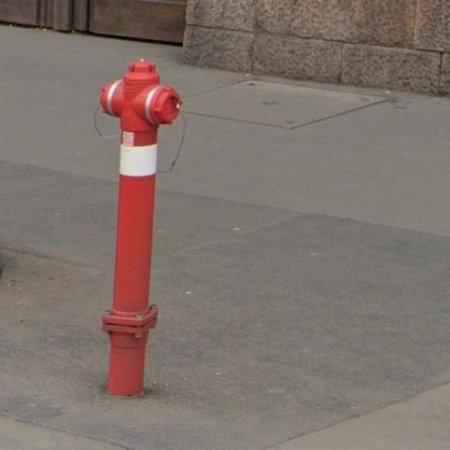a fire hydrant: (100, 60, 183, 397)
